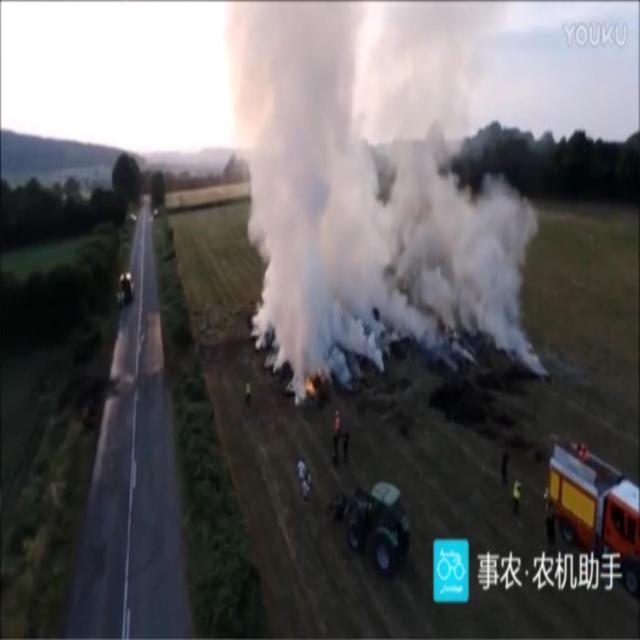fire: (302, 373, 316, 397)
smoke: (225, 4, 544, 401)
